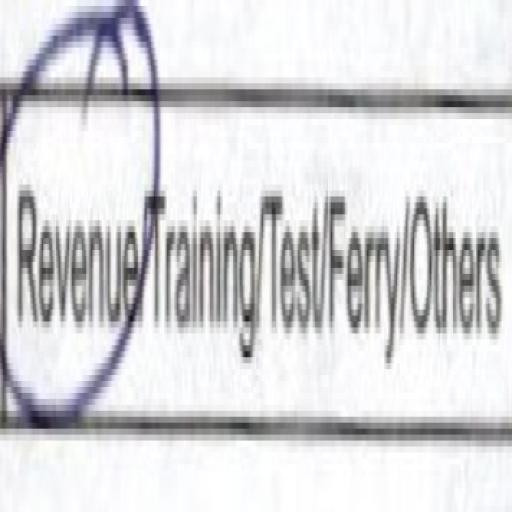check: (0, 0, 148, 447)
